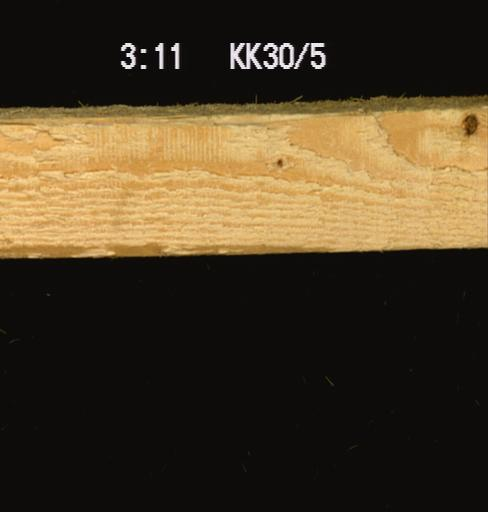dry_knot: (458, 109, 480, 138)
small_knot: (273, 153, 286, 172)
wave: (4, 98, 304, 125)
